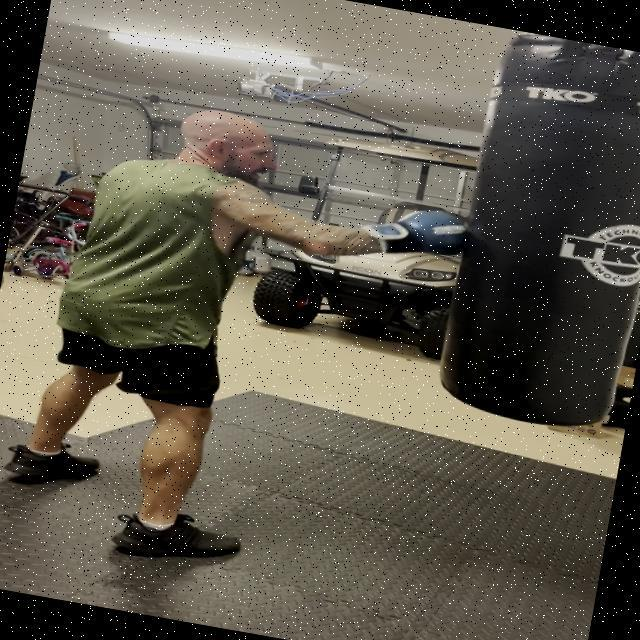bag: (443, 28, 640, 445)
jab: (61, 76, 514, 330)
